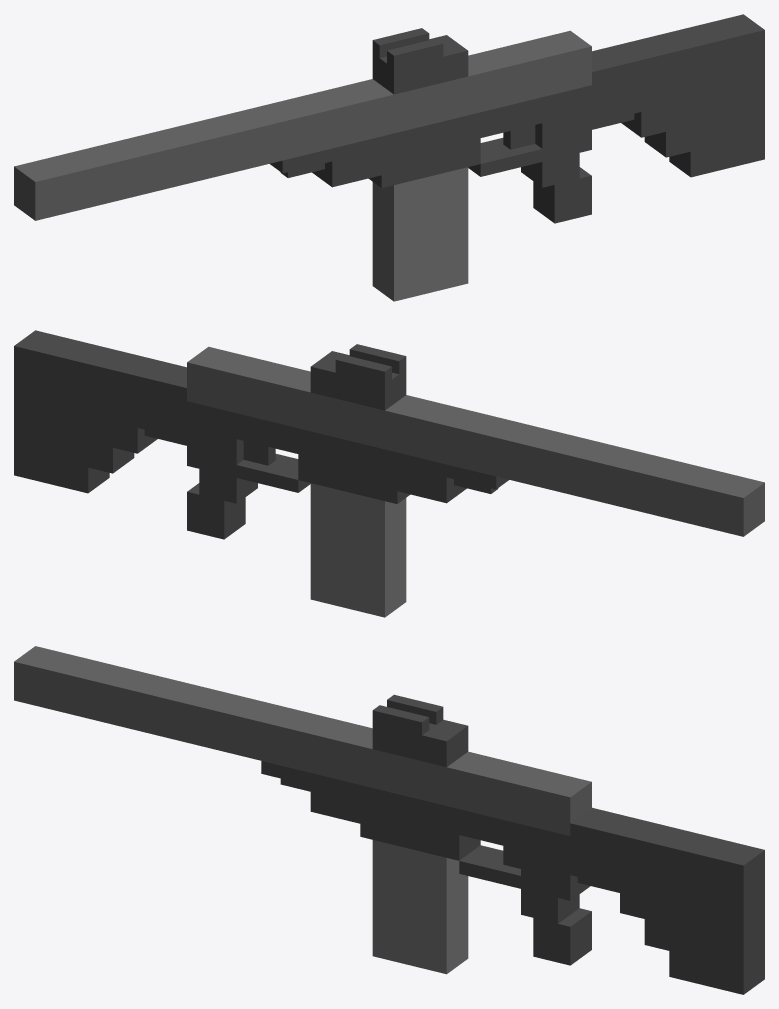
Rendered from Gun-3.obj.
3 views of the same model, one above another, from view 1: azimuth 30°, elevation 25°; view 2: azimuth 150°, elevation 25°; view 3: azimuth 330°, elevation 25° (orthographic).
Parts seen in each view (by area): view 1: Gun-3; view 2: Gun-3; view 3: Gun-3.
Boxes of the visible parts, x1,y1,x2,y2 form: Gun-3: (14, 14, 764, 301); Gun-3: (14, 330, 764, 617); Gun-3: (14, 646, 764, 994).
Size of the model in its own units: 59 by 19 by 3.
1 material, 1 textured.
